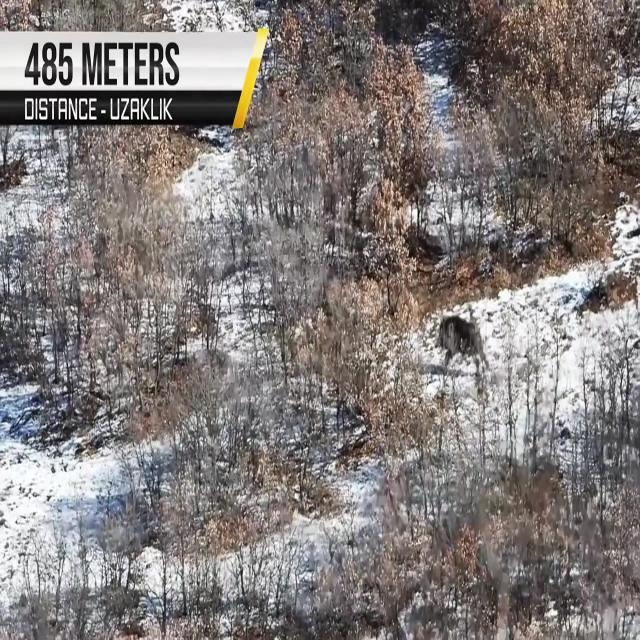pig: (424, 295, 501, 407)
